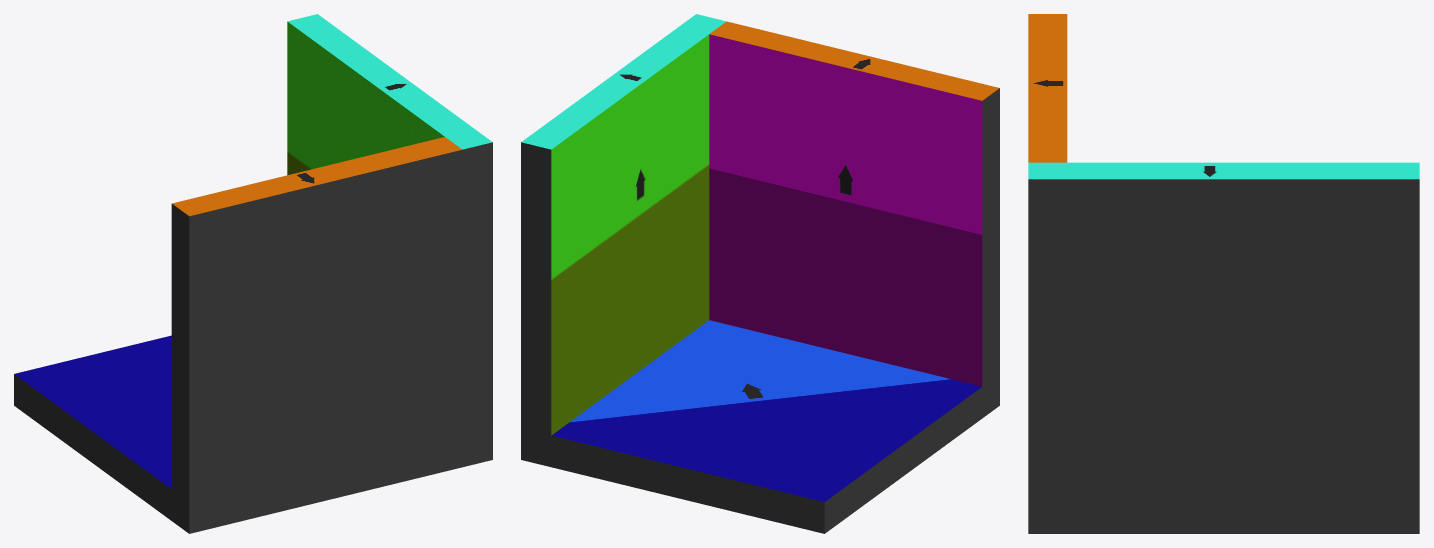
File: room-corner.glb
3 renders of one model, left to right at view 1: azimuth 30°, elevation 25°; view 2: azimuth 150°, elevation 25°; view 3: azimuth 270°, elevation 25°, orthographic. The views are drawn at different scales.
Parts seen in each view (by area): view 1: BL.003; view 2: BL.003; view 3: BL.003.
Boxes of the visible parts, bbox=[...] form: BL.003: bbox=[14, 14, 492, 533]; BL.003: bbox=[521, 14, 999, 533]; BL.003: bbox=[1028, 14, 1419, 533].
Size of the model in its own units: 2 by 2 by 2.
Materials: 1 (1 with a texture image).
